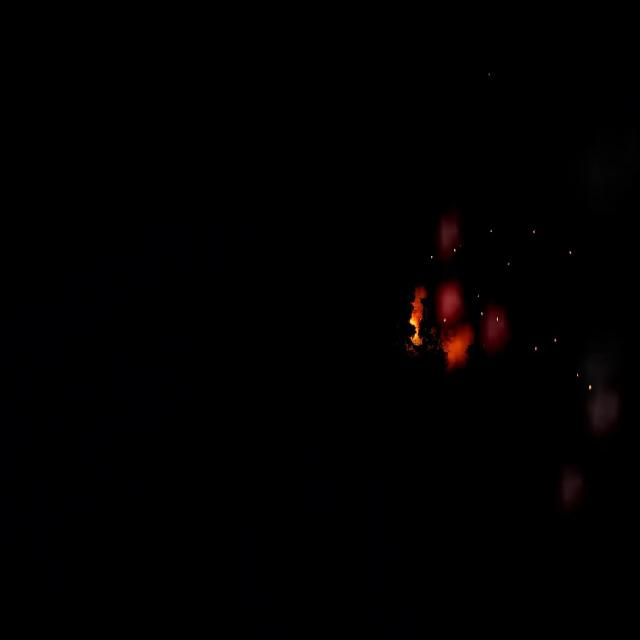fire: (408, 289, 426, 344)
smoke: (432, 208, 511, 366)
